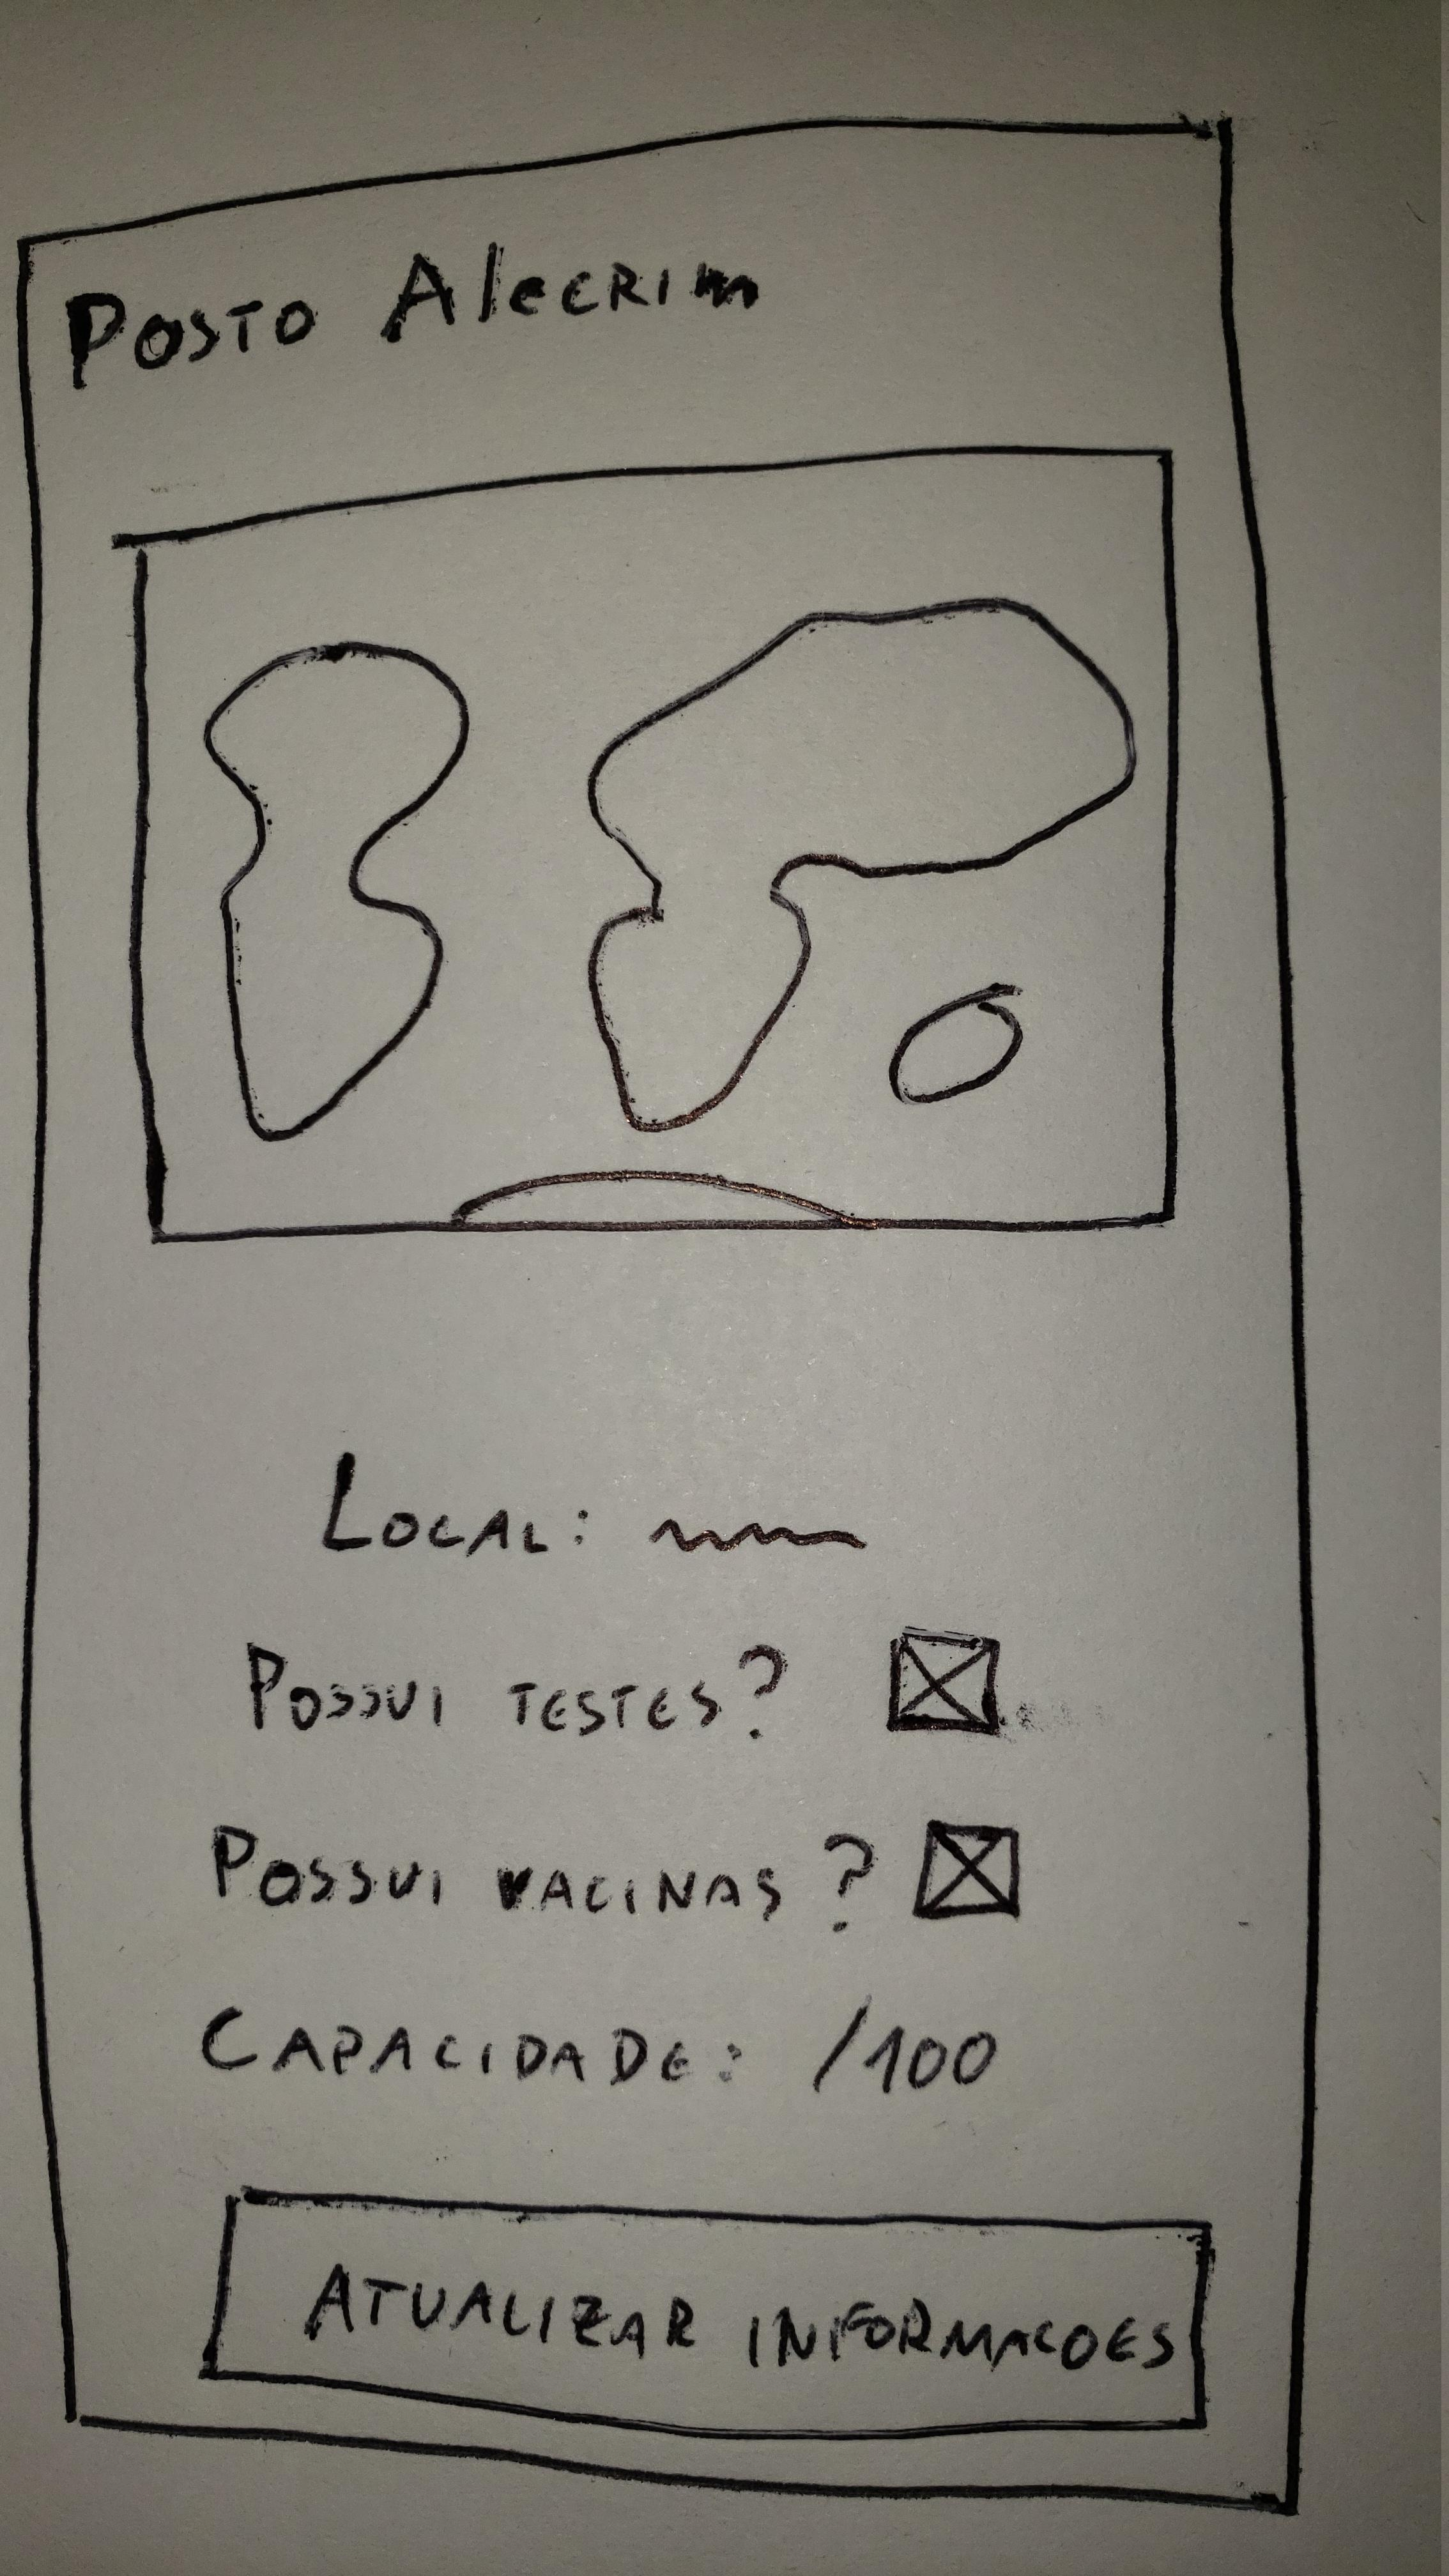Button: (201, 2185, 1219, 2444)
Image: (887, 1630, 1001, 1734), (916, 1821, 1019, 1922)
Label: (63, 238, 763, 392), (201, 1995, 999, 2097), (208, 1823, 875, 1935), (320, 1452, 868, 1556), (247, 1638, 785, 1742)
Map: (133, 444, 1179, 1248)
Screen: (17, 114, 1326, 2520)
